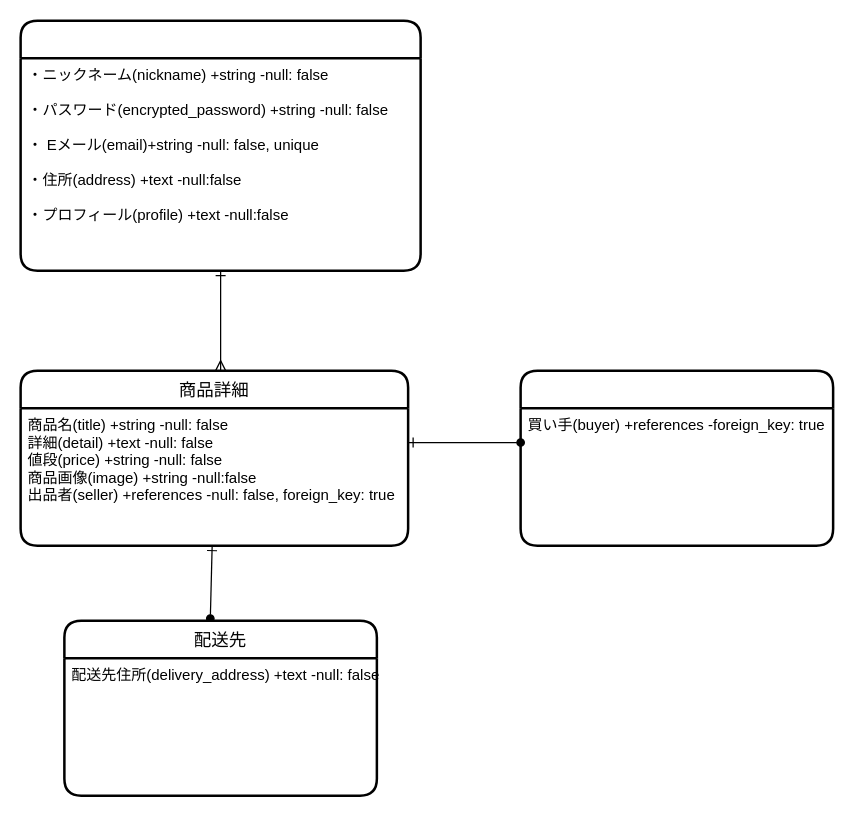
This 854x816 diagram has some shape labels left out. Each missing label, with the box of its shape:
ユーザー: (19, 19, 421, 271)
商品発送: (519, 369, 834, 546)
